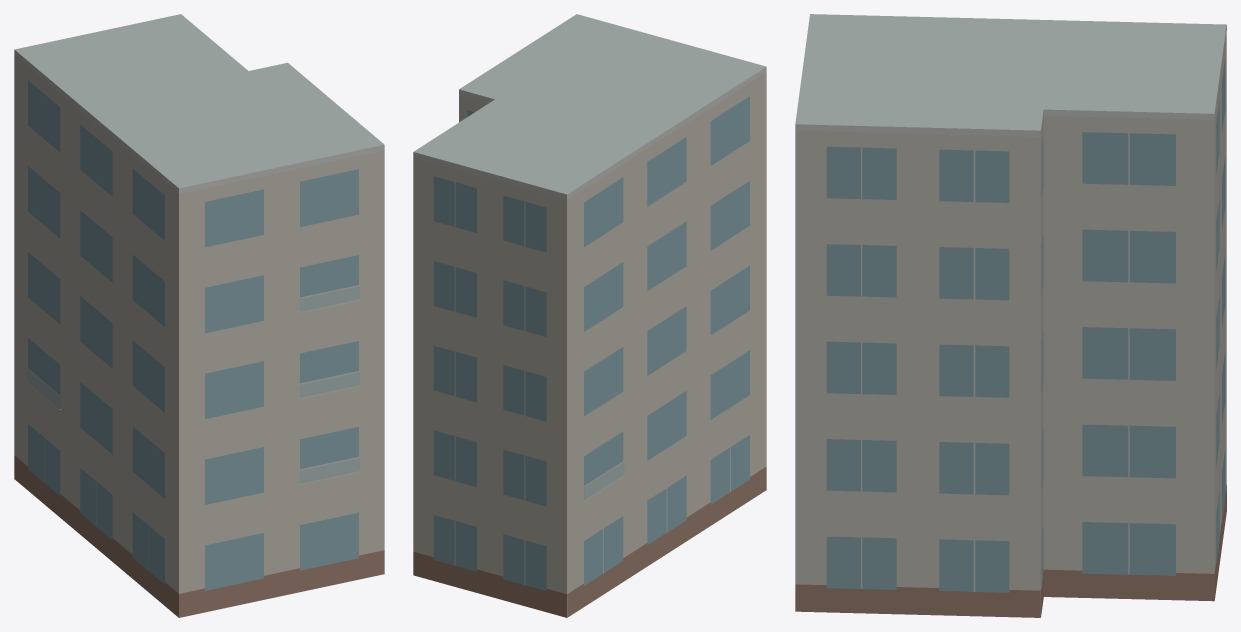
File: survey-upis-33030313.glb
The picture shows the model from 3 angles, left to right: view 1: azimuth 30°, elevation 25°; view 2: azimuth 150°, elevation 25°; view 3: azimuth 270°, elevation 25°; orthographic projection. The views are drawn at different scales.
Visible parts, largest first — view 1: survey-upis-33030313.tmp; view 2: survey-upis-33030313.tmp; view 3: survey-upis-33030313.tmp.
Boxes of the visible parts, x1,y1,x2,y2 form: survey-upis-33030313.tmp: [14, 14, 384, 617]; survey-upis-33030313.tmp: [413, 14, 766, 617]; survey-upis-33030313.tmp: [795, 14, 1226, 617].
Size of the model in its own units: 9.76 by 19 by 15.26.
